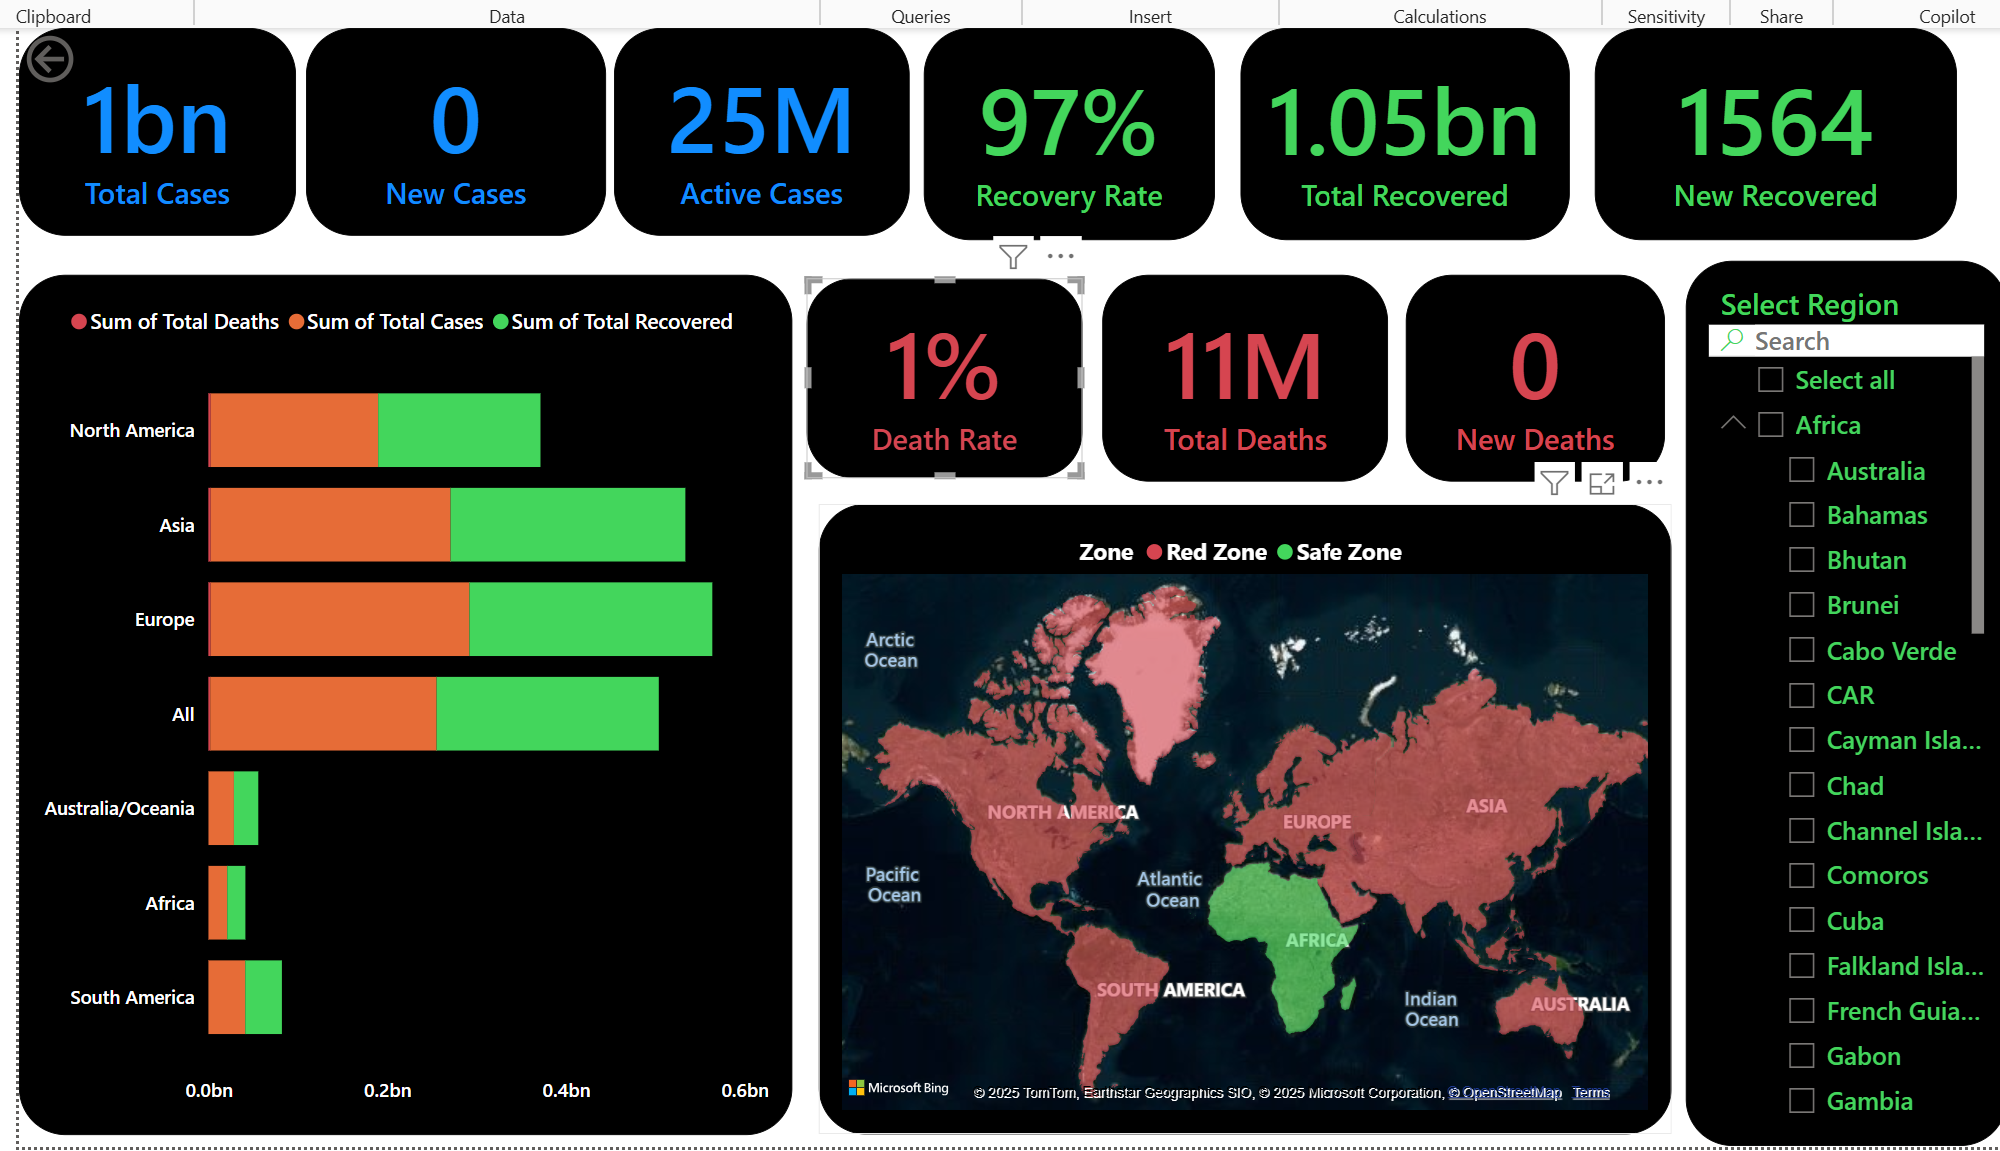

Layout of this report page (visuals, bound fields, positions):
{"tool":"powerbi","page":{"name":"Page 1","canvas":[1280,720],"ordinal":0},"visuals":[{"type":"card","fields":{"Values":["Sheet1.Death_rate_Sheet1"]},"box":[502.4,154.6,178.4,127.8],"z":0},{"type":"card","fields":{"Values":["Sheet1.Recovery_rate_sheet1"]},"box":[582.7,0,187.3,136.7],"z":1000},{"type":"card","fields":{"Values":["Sum(Sheet1.Total Deaths)"]},"box":[685,149.3,184.3,133.8],"z":2000},{"type":"card","fields":{"Values":["Sum(Sheet1.New Deaths)"]},"box":[875.3,149.3,166.5,133.8],"z":3000},{"type":"card","fields":{"Values":["Sum(Sheet1.Total Recovered)"]},"box":[786.3,0,212.6,136.7],"z":4000},{"type":"card","fields":{"Values":["Sum(Sheet1.New Recovered)"]},"box":[1015.2,0,233.4,136.7],"z":5000},{"type":"card","fields":{"Values":["Sum(Sheet1.Total Cases)"]},"box":[0,0,178.4,133.8],"z":6000},{"type":"card","fields":{"Values":["Sum(Sheet1.New Cases)"]},"box":[184.3,0,193.2,133.8],"z":6001},{"type":"card","fields":{"Values":["Sum(Sheet1.Active Cases)"]},"box":[383.5,0,190.3,133.8],"z":6002},{"type":"actionButton","box":[0,0,100,40],"z":6004},{"type":"slicer","fields":{"Values":["Sheet1.Continent","Sheet1.Country,Other"]},"box":[1073.2,149.5,206.6,569.9],"z":6005},{"type":"filledMap","fields":{"Category":["Sheet1.Continent"],"Series":["Sheet1.Zone"]},"box":[514.3,306.2,550,405.8],"z":6006},{"type":"barChart","fields":{"Y":["Sum(Sheet1.Total Deaths)","Sum(Sheet1.Total Cases)","Sum(Sheet1.Total Recovered)"],"Category":["Sheet1.Continent"]},"box":[0,158.4,497.9,553.6],"z":6007}]}

Visuals, with their boxes in screenshot pixels (x1, y1, x2, y2):
card - Sheet1.Death_rate_Sheet1: 790,264,1065,461
card - Sheet1.Recovery_rate_sheet1: 914,26,1202,237
card - Sum(Sheet1.Total Deaths): 1071,256,1355,462
card - Sum(Sheet1.New Deaths): 1364,256,1621,462
card - Sum(Sheet1.Total Recovered): 1227,26,1555,237
card - Sum(Sheet1.New Recovered): 1580,26,1940,237
card - Sum(Sheet1.Total Cases): 16,26,291,232
card - Sum(Sheet1.New Cases): 300,26,597,232
card - Sum(Sheet1.Active Cases): 607,26,900,232
actionButton: 16,26,170,88
slicer - Sheet1.Continent x Sheet1.Country,Other: 1669,256,1988,1135
filledMap - Sheet1.Continent x Sheet1.Zone: 808,498,1656,1123
barChart - Sum(Sheet1.Total Deaths) x Sum(Sheet1.Total Cases): 16,270,783,1123
